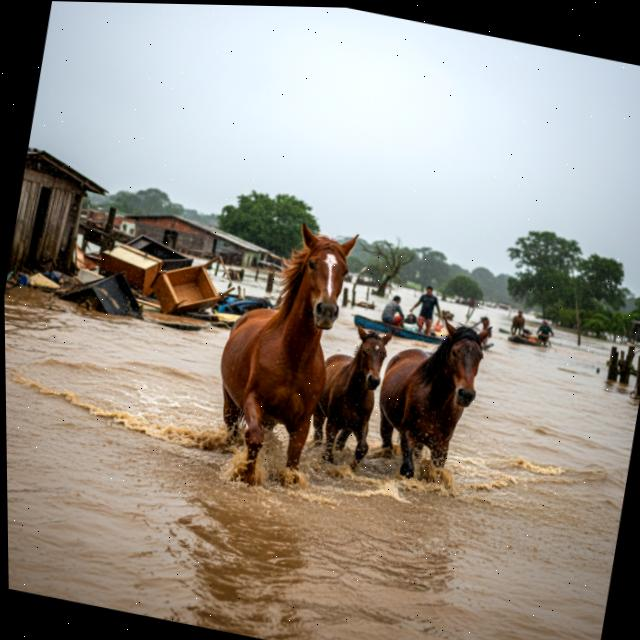civilian: (405, 280, 451, 339), (378, 289, 410, 330), (534, 319, 555, 346)
horse: (193, 198, 368, 492), (361, 301, 500, 499), (301, 313, 399, 482), (507, 309, 528, 340)
